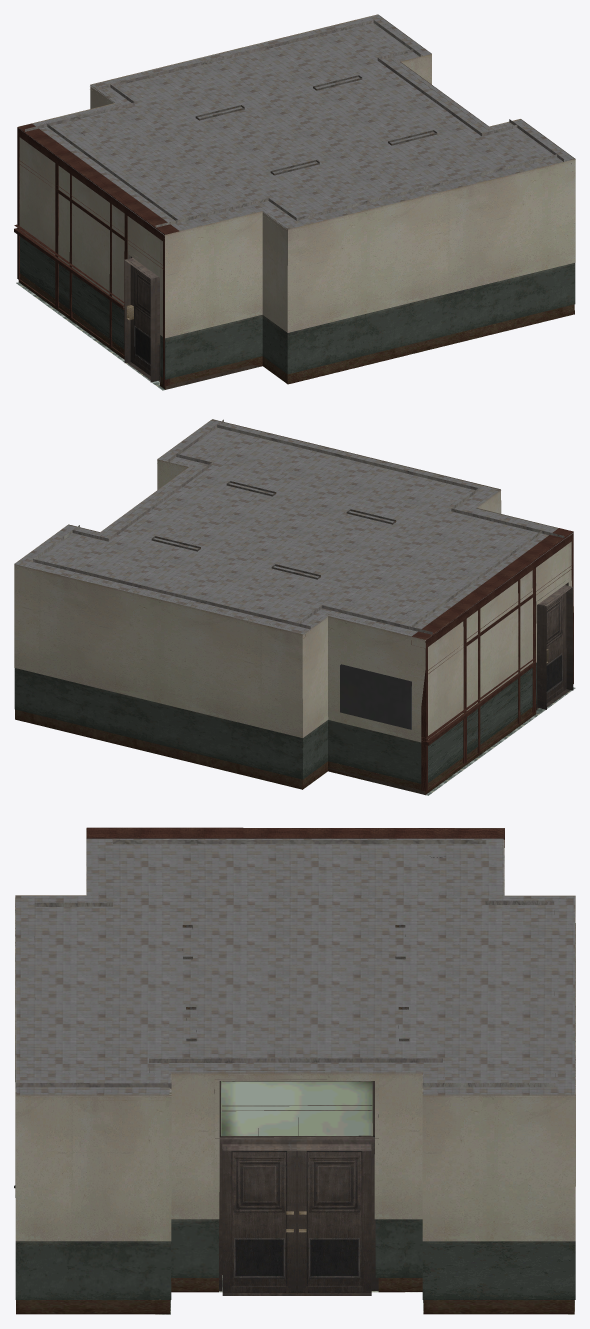
The model's file is RE2 Briefing room.obj.
3 renders of one model, top to bottom at view 1: azimuth 30°, elevation 25°; view 2: azimuth 150°, elevation 25°; view 3: azimuth 270°, elevation 25°, orthographic. The views are drawn at different scales.
Visible parts, largest first — view 1: Object.046_Mesh.046_M, Object.002_Mesh.002_M, Object.020_Mesh.020_M, Object.017_Mesh.017_M, Object.031_Mesh.031_M, Object.050_Mesh.050_M, Object.032_Mesh.032_M, Object.029_Mesh.029_M, Object.076_Mesh.076_M, Object.037_Mesh.037_M; view 2: Object.046_Mesh.046_M, Object.002_Mesh.002_M, Object.020_Mesh.020_M, Object.017_Mesh.017_M, Object.031_Mesh.031_M, Object.050_Mesh.050_M, Object.036_Mesh.036_M, Object.029_Mesh.029_M, Object.032_Mesh.032_M, Object.076_Mesh.076_M, Object.037_Mesh.037_M; view 3: Object.046_Mesh.046_M, Object.002_Mesh.002_M, Object.020_Mesh.020_M, Object.004_Mesh.004_M, Object.059_Mesh.059_M, Object.053_Mesh.053_M, Object.050_Mesh.050_M, Object.031_Mesh.031_M, Object.017_Mesh.017_M, Object.008_Mesh.008_M, Object.024_Mesh.024_M.
Boxes of the visible parts, x1,y1,x2,y2 form: Object.046_Mesh.046_M: (21,15,574,235); Object.002_Mesh.002_M: (18,14,575,338); Object.020_Mesh.020_M: (20,236,575,379); Object.017_Mesh.017_M: (14,123,179,386); Object.031_Mesh.031_M: (19,273,574,389); Object.050_Mesh.050_M: (25,20,563,235); Object.032_Mesh.032_M: (126,259,157,381); Object.029_Mesh.029_M: (124,251,160,382); Object.076_Mesh.076_M: (195,75,437,175); Object.037_Mesh.037_M: (16,282,542,390); Object.046_Mesh.046_M: (14,419,573,638); Object.002_Mesh.002_M: (14,419,573,742); Object.020_Mesh.020_M: (14,662,536,783); Object.017_Mesh.017_M: (411,528,573,791); Object.031_Mesh.031_M: (15,704,536,794); Object.050_Mesh.050_M: (33,419,564,635); Object.036_Mesh.036_M: (340,664,411,729); Object.029_Mesh.029_M: (536,581,573,710); Object.032_Mesh.032_M: (540,592,570,709); Object.076_Mesh.076_M: (151,481,396,579); Object.037_Mesh.037_M: (51,687,575,795); Object.046_Mesh.046_M: (16,838,575,1095); Object.002_Mesh.002_M: (15,828,575,1241); Object.020_Mesh.020_M: (15,1070,575,1299); Object.004_Mesh.004_M: (222,1149,296,1292); Object.059_Mesh.059_M: (297,1148,371,1293); Object.053_Mesh.053_M: (221,1081,372,1136); Object.050_Mesh.050_M: (15,830,575,1096); Object.031_Mesh.031_M: (16,1278,574,1314); Object.017_Mesh.017_M: (86,827,504,847); Object.008_Mesh.008_M: (215,1137,378,1295); Object.024_Mesh.024_M: (214,1079,378,1138).
Size of what is drawn, in the model's own units: 7.75 by 2.98 by 6.77.
52 materials, 52 textured.
